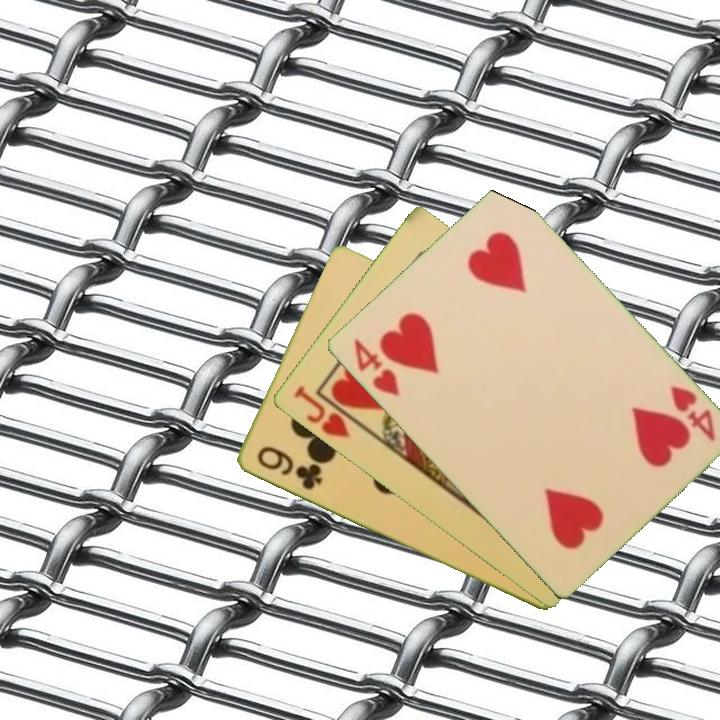4h: (349, 335, 402, 399), (666, 381, 718, 445)
9c: (252, 442, 325, 493)
Jh: (289, 382, 353, 441)
